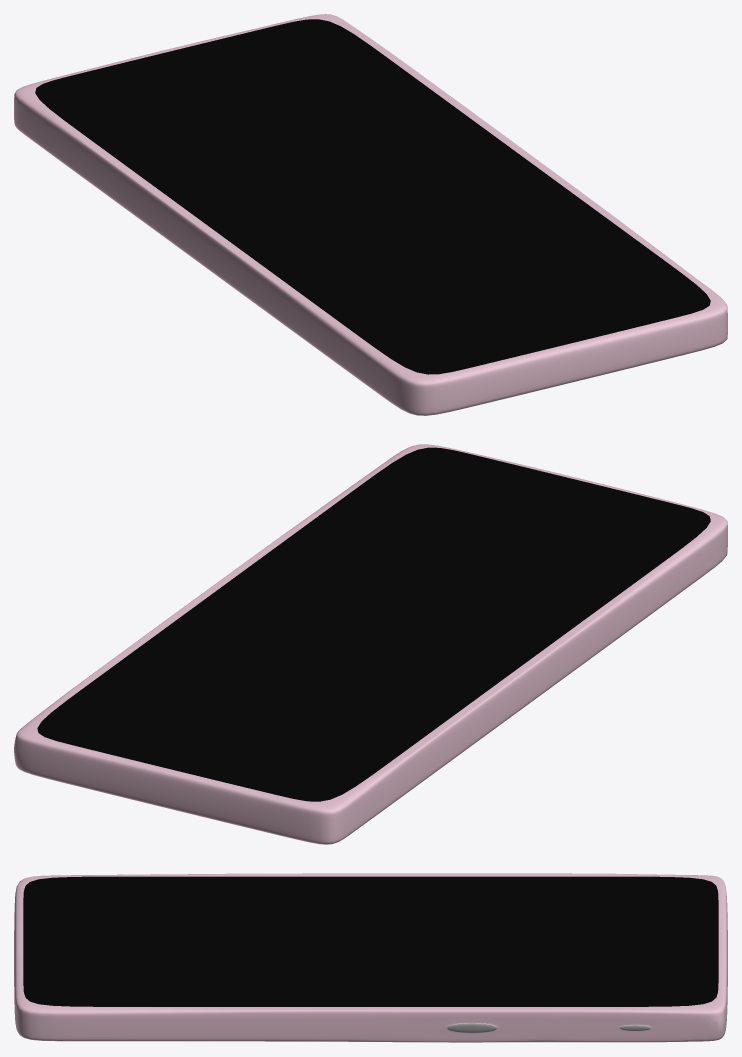
The model's file is Iphone.fbx.
The picture shows the model from 3 angles, top to bottom: view 1: azimuth 30°, elevation 25°; view 2: azimuth 150°, elevation 25°; view 3: azimuth 270°, elevation 25°; orthographic projection. The views are drawn at different scales.
Parts seen in each view (by area): view 1: Cube; view 2: Cube; view 3: Cube.
Boxes of the visible parts, x1,y1,x2,y2 form: Cube: (14,14,727,415); Cube: (14,444,727,844); Cube: (14,873,727,1042).
Bounding box in the file's own units: 201 × 22.37 × 435.
